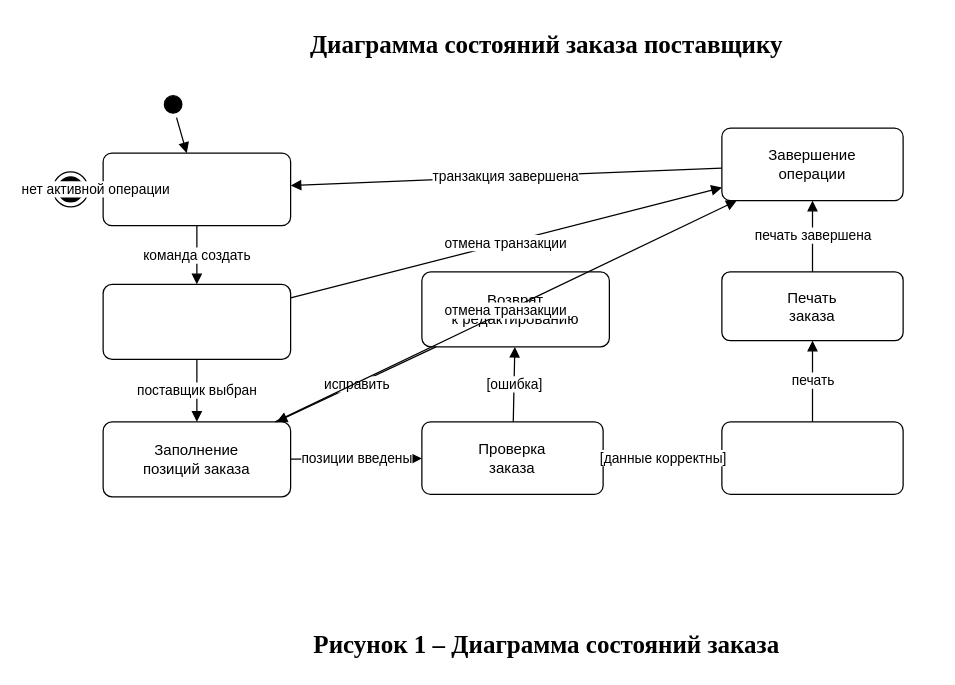
This 955x685 diagram has some shape labels left out. The centre of each missing label's shape, as x and y in pixels:
Заказ сформирован: (x=812, y=457)
Ожидание выбора поставщика: (x=196, y=321)
Ожидание создания заказа: (x=196, y=189)
